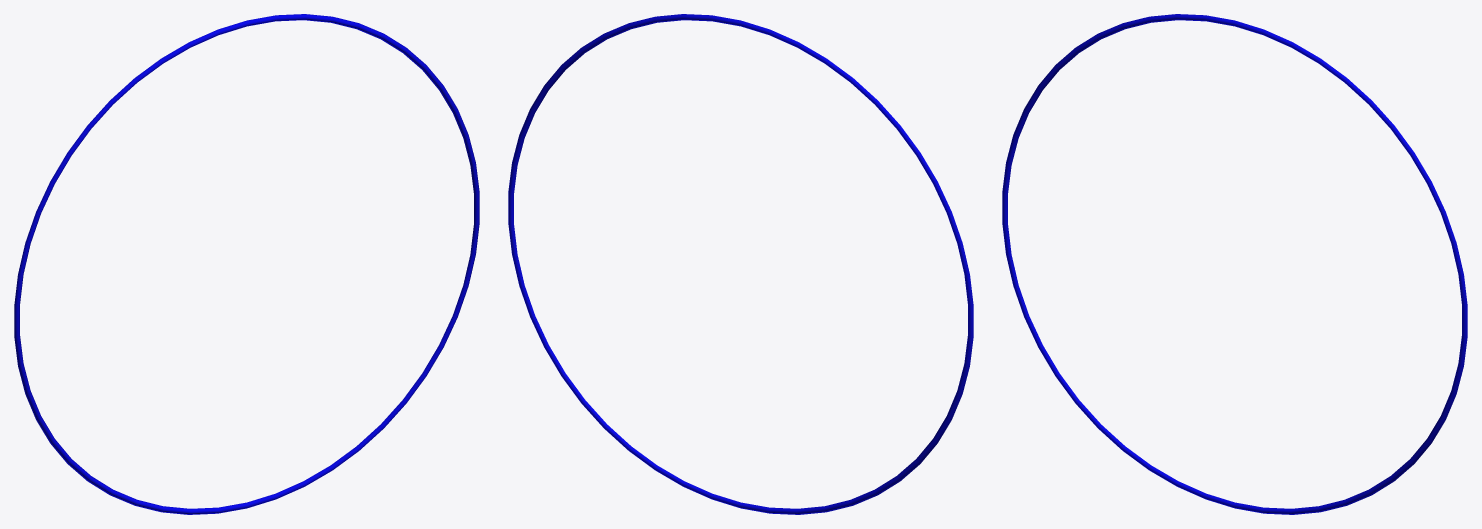
File: Gizmo_ring_Z.fbx
3 renders of one model, left to right at view 1: azimuth 30°, elevation 25°; view 2: azimuth 150°, elevation 25°; view 3: azimuth 330°, elevation 25°, orthographic.
Visible parts, largest first — view 1: Gizmo_ring_Z; view 2: Gizmo_ring_Z; view 3: Gizmo_ring_Z.
Part boxes in pixels (bbox=[...]): Gizmo_ring_Z: bbox=[14, 14, 479, 514]; Gizmo_ring_Z: bbox=[508, 14, 973, 514]; Gizmo_ring_Z: bbox=[1002, 14, 1467, 514].
Size of the model in its own units: 40.42 by 40.5 by 0.5.
